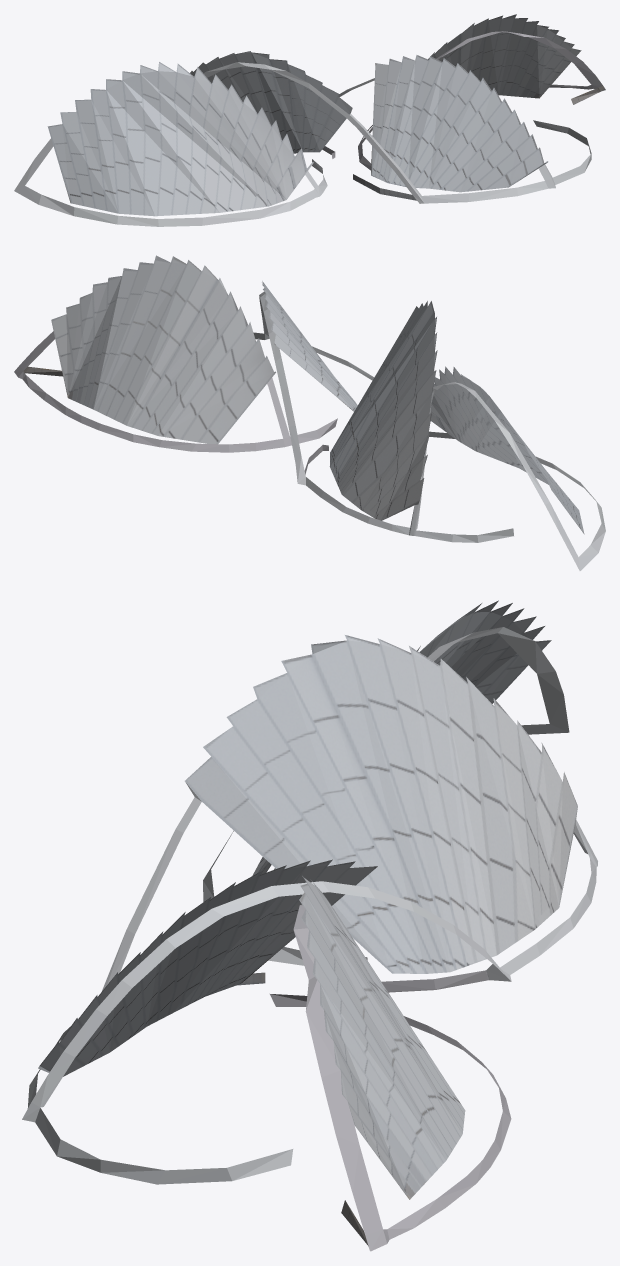
The model's file is 119_PLACED2212.glb.
3 renders of one model, top to bottom at view 1: azimuth 30°, elevation 25°; view 2: azimuth 150°, elevation 25°; view 3: azimuth 270°, elevation 25°, orthographic. The views are drawn at different scales.
Parts seen in each view (by area): view 1: 119.002; view 2: 119.002; view 3: 119.002.
Boxes of the visible parts, x1,y1,x2,y2 form: 119.002: [14, 14, 605, 226]; 119.002: [14, 255, 605, 570]; 119.002: [22, 600, 597, 1251].
Bounding box in the file's own units: 103 × 25.13 × 47.28.
Materials: 1 (1 with a texture image).
